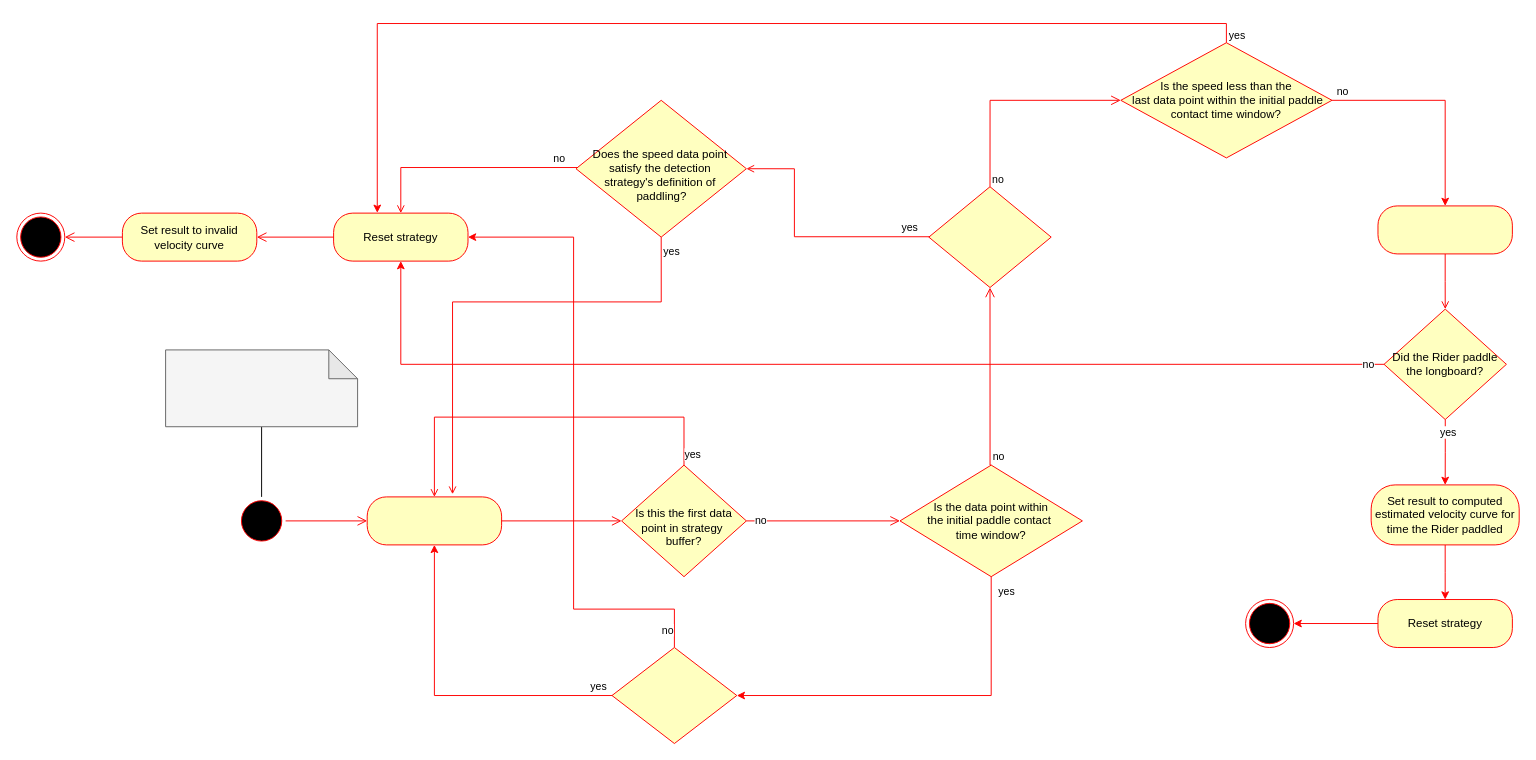
The diagram is 1536 pixels wide and 760 high, and some of its shapes have lost their labels. The centre of each missing label's shape, as x and y in pixels:
"Add the latest acceleration and ERPM data points to strategy buffer" belongs at point 434,520.
"Analyze IMU data from both sensors" belongs at point 1444,229.
"Is the speed decreasing ?" belongs at point 674,695.
"Is the speed increasing ?" belongs at point 989,237.
"The detection strategy is executed within the rider-paddling-detection thread." belongs at point 261,388.
